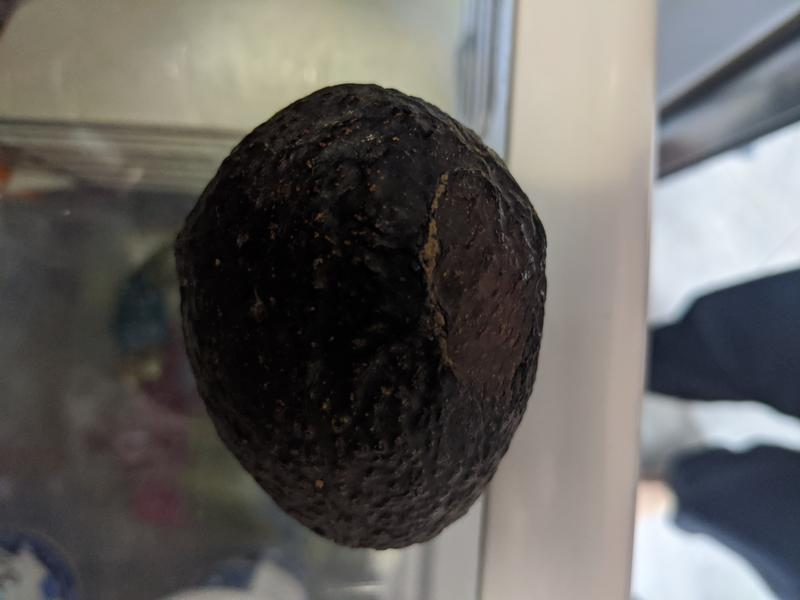avocado: (176, 83, 548, 546)
